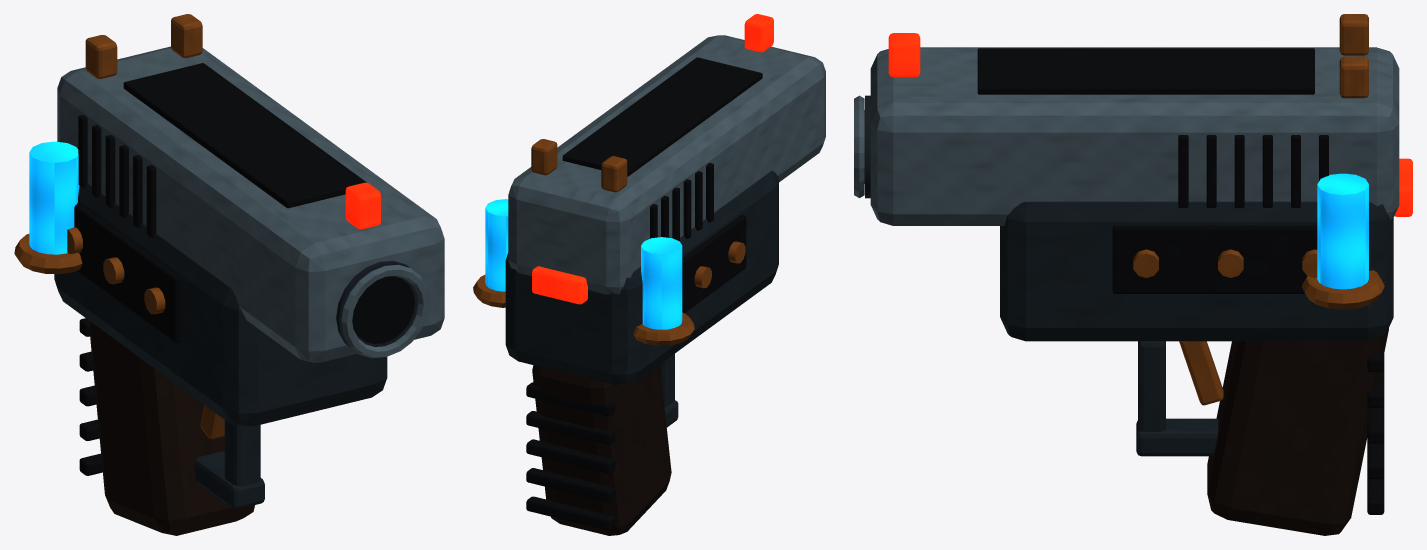
Rendered from pickup_pistol.glb.
3 renders of one model, left to right at view 1: azimuth 30°, elevation 25°; view 2: azimuth 150°, elevation 25°; view 3: azimuth 270°, elevation 25°, orthographic. The views are drawn at different scales.
Visible parts, largest first — view 1: weapon, slide; view 2: weapon, slide; view 3: weapon, slide.
Part boxes in pixels (x1,y1,x2,y2): weapon: (14, 141, 428, 535); slide: (57, 14, 444, 362); weapon: (473, 171, 778, 535); slide: (508, 14, 825, 294); weapon: (854, 95, 1412, 535); slide: (870, 14, 1399, 225).
Bounding box in the file's own units: 0.274 × 0.4735 × 0.4968.
7 materials, 7 textured.
